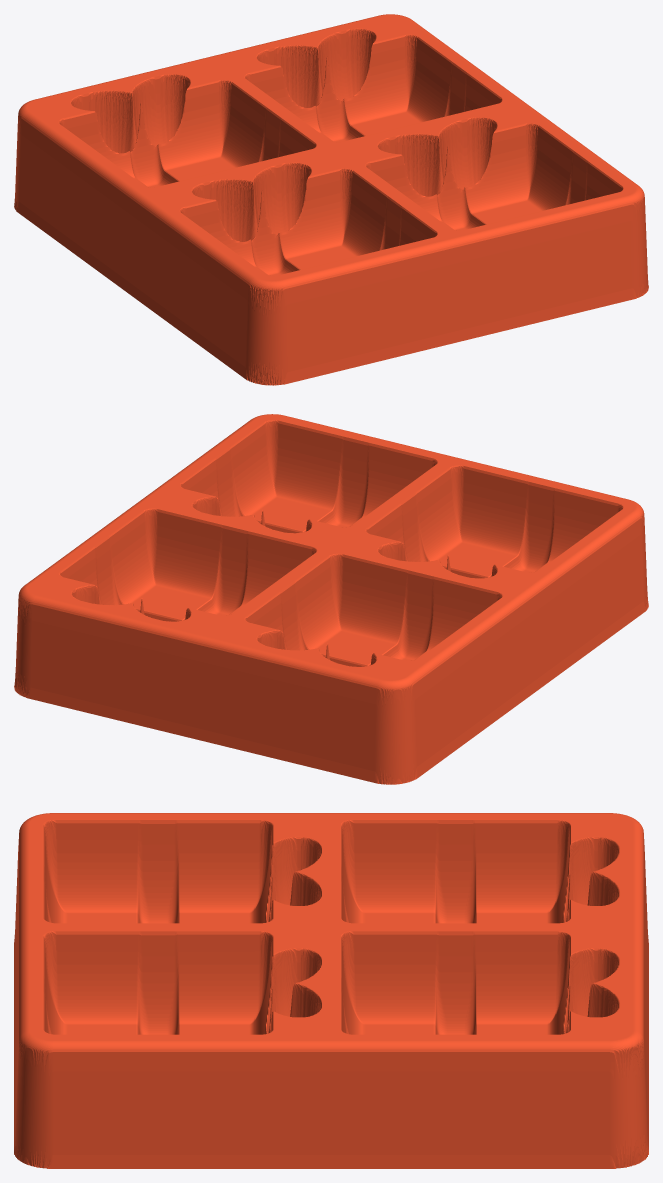
Rendered from mold.glb.
3 views of the same model, one above another, from view 1: azimuth 30°, elevation 25°; view 2: azimuth 150°, elevation 25°; view 3: azimuth 270°, elevation 25° (orthographic). The views are drawn at different scales.
Visible parts, largest first — view 1: geometry_0; view 2: geometry_0; view 3: geometry_0.
Part boxes in pixels (<box>): geometry_0: <box>14,14,648,385</box>; geometry_0: <box>14,414,648,784</box>; geometry_0: <box>14,813,648,1168</box>.
Bounding box in the file's own units: 0.131 × 0.031 × 0.1466.
